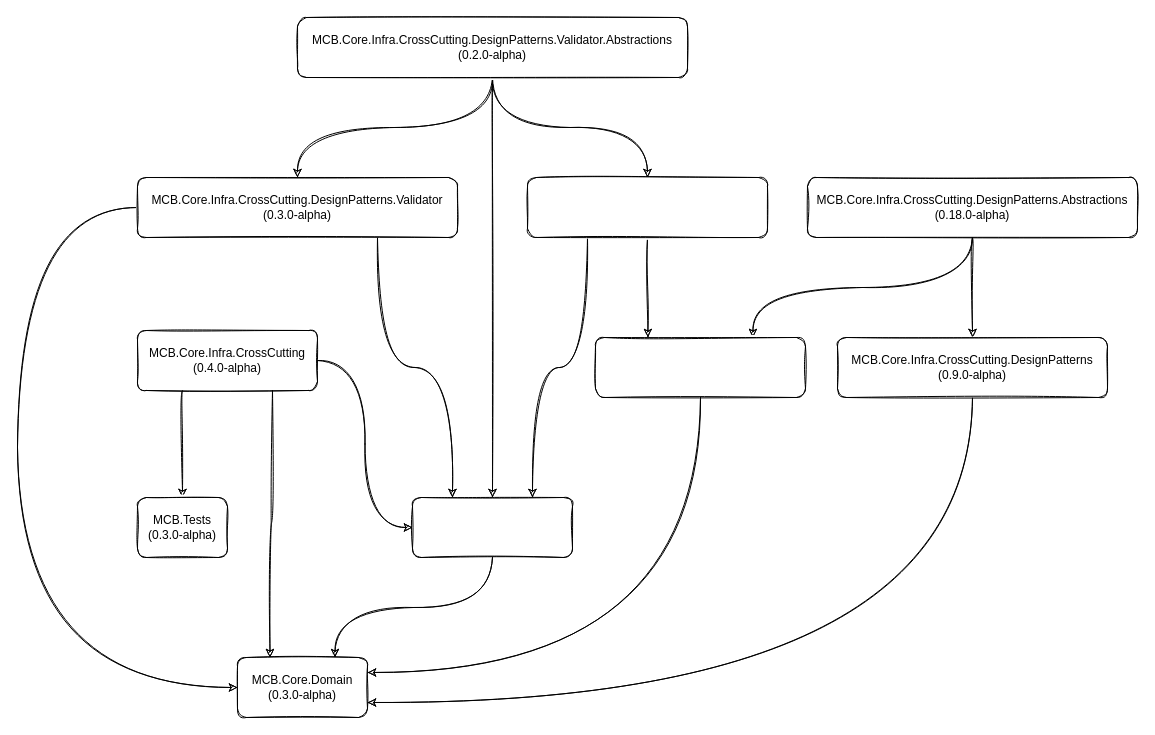
Some shapes in this 1155 by 735 pixel diagram are drawn without their labels. Here are the shapes that lost their labels. From the top down, the centre of each, then its label:
At point 647,207: "MCB.Core.Domain.Entities.Abstractions (0.7.0-alpha)".
At point 700,367: "MCB.Core.Domain.Abstractions (0.11.0-alpha)".
At point 492,527: "MCB.Core.Domain.Entities (0.9.0-alpha)".
